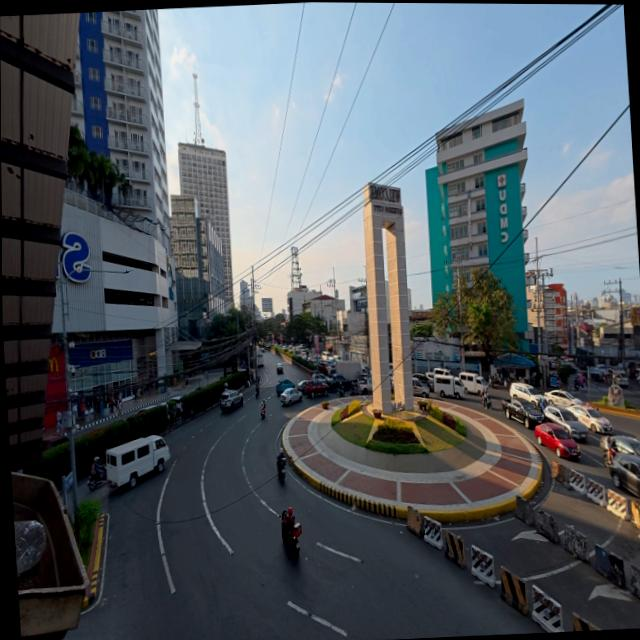car: (533, 420, 579, 465), (298, 375, 330, 399), (218, 387, 244, 412), (277, 383, 302, 405)
trucks: (501, 386, 549, 431)
vans: (103, 433, 172, 490), (448, 370, 489, 400)
